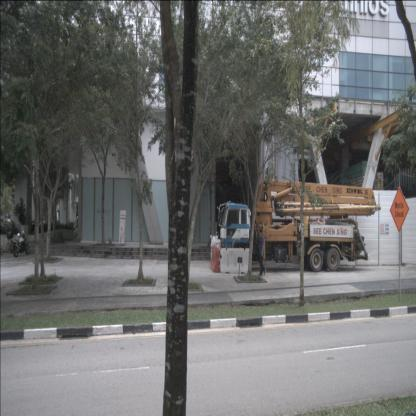human-pedestrian-adult: (258, 228, 266, 275)
movable_object-barrier: (220, 247, 251, 273), (210, 244, 221, 274)
vehicle-bicycle: (6, 236, 23, 253), (0, 242, 4, 255)
vehicle-motorcycle: (6, 230, 30, 257)
vehicle-truck: (220, 179, 381, 272)
